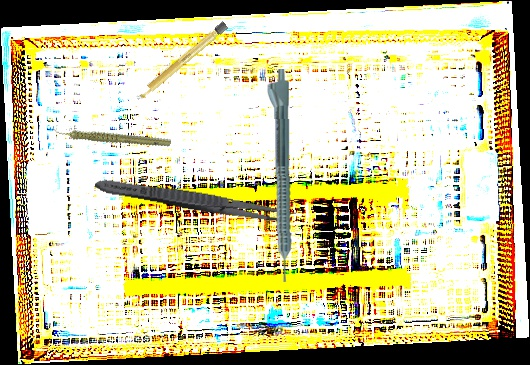Dressing Forceps: (93, 174, 297, 227)
Handpiece: (51, 101, 173, 171), (264, 69, 293, 283)
Scalpel Handle: (134, 21, 229, 102)
